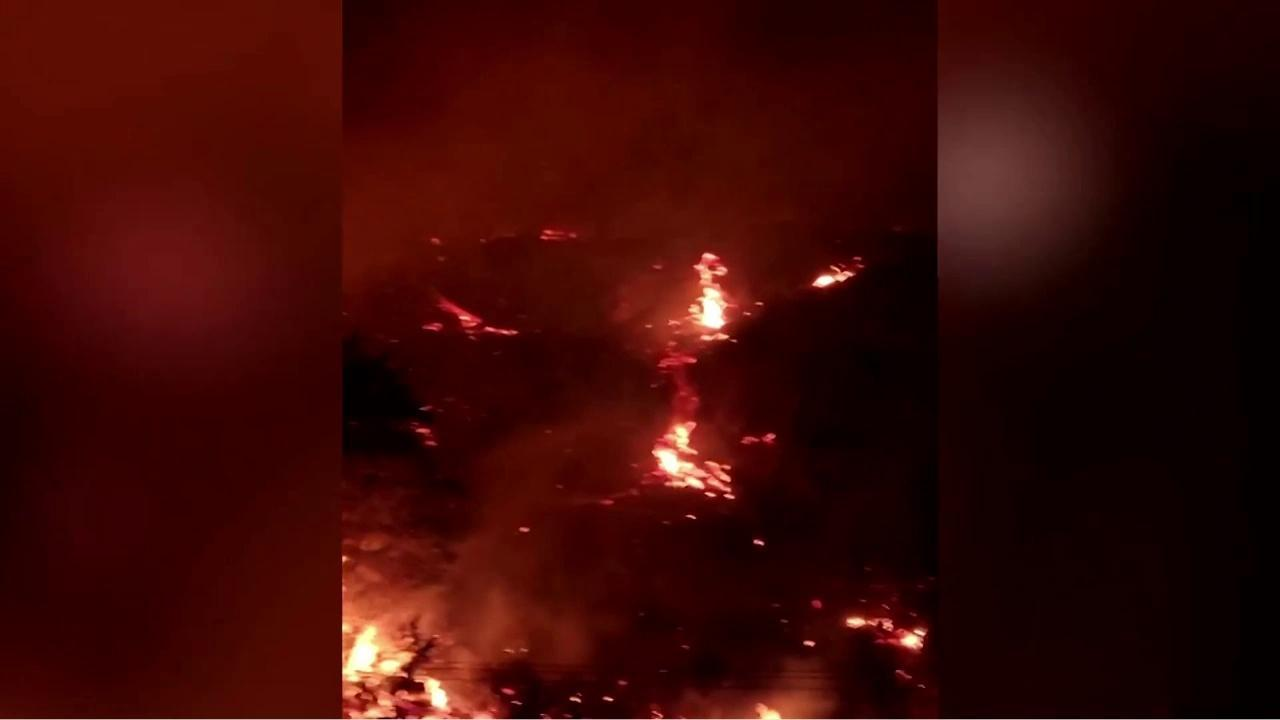fire: (606, 341, 741, 511), (342, 620, 500, 720), (659, 251, 748, 342), (429, 284, 520, 343), (842, 615, 931, 653), (804, 255, 865, 292), (538, 225, 577, 243), (752, 701, 782, 720), (412, 425, 439, 446), (741, 432, 777, 446), (419, 321, 443, 334)
smoke: (343, 1, 937, 720)
